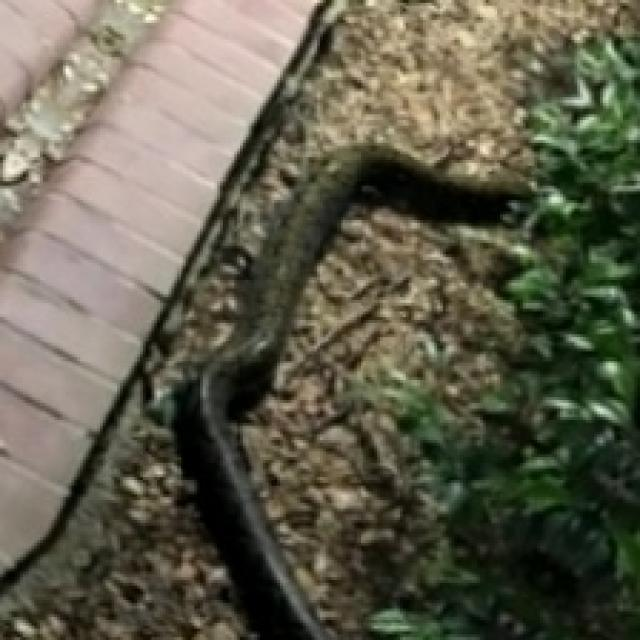reticulated python: (171, 143, 529, 637)
